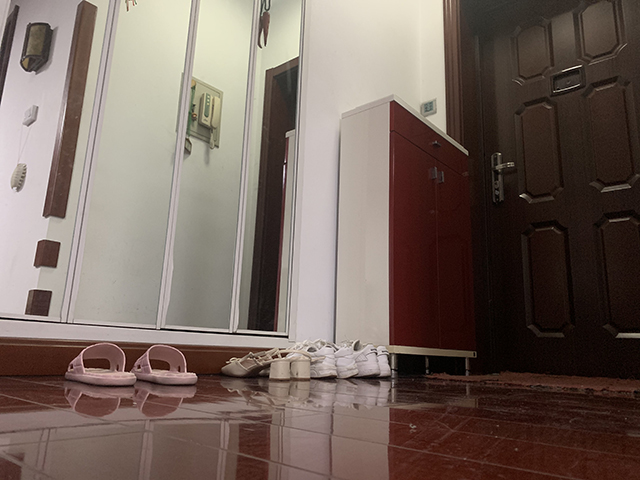cabinet: (333, 93, 477, 374)
carpet: (422, 370, 640, 401)
slippers: (63, 340, 137, 389), (133, 344, 199, 387)
